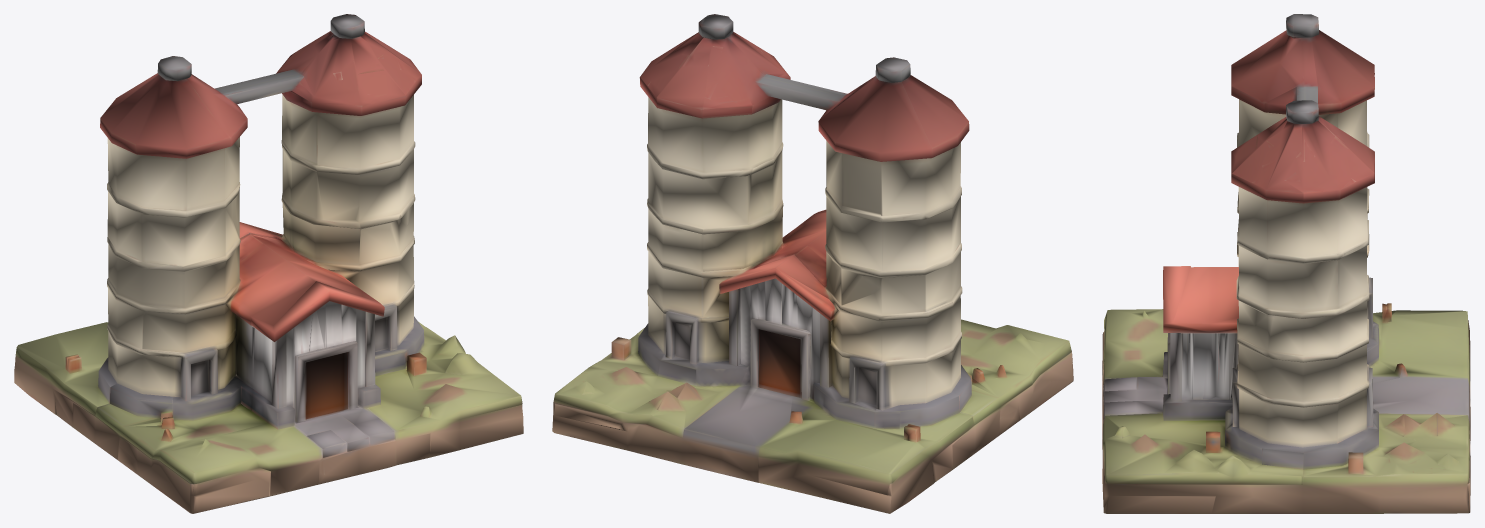
File: ambar.glb
The picture shows the model from 3 angles, left to right: view 1: azimuth 30°, elevation 25°; view 2: azimuth 150°, elevation 25°; view 3: azimuth 270°, elevation 25°; orthographic projection. The views are drawn at different scales.
Visible parts, largest first — view 1: node_0; view 2: node_0; view 3: node_0.
Part boxes in pixels (<box>): node_0: <box>14,14,523,513</box>; node_0: <box>552,14,1073,513</box>; node_0: <box>1102,14,1470,513</box>.
Size of the model in its own units: 0.7055 by 0.7261 by 0.6576.
1 material, 1 textured.
